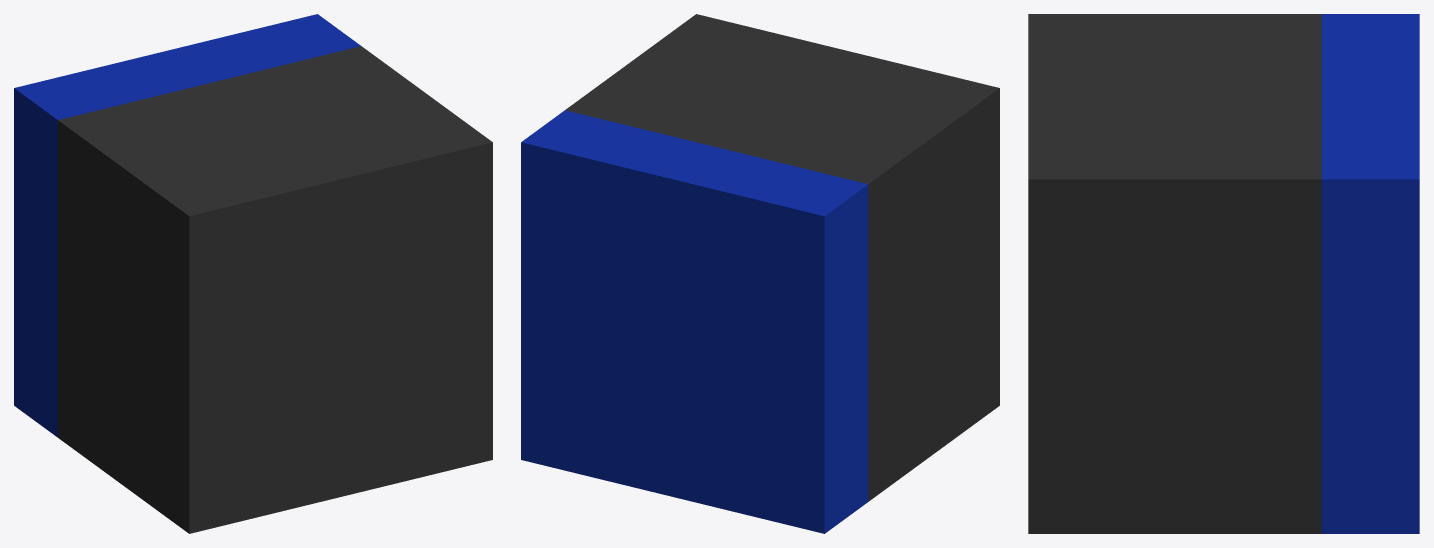
Rendered from triplejoin.gltf.
3 views of the same model, side by side, from view 1: azimuth 30°, elevation 25°; view 2: azimuth 150°, elevation 25°; view 3: azimuth 270°, elevation 25° (orthographic). The views are drawn at different scales.
Parts seen in each view (by area): view 1: InnerCorner, OuterCorner; view 2: OuterCorner, InnerCorner; view 3: InnerCorner, OuterCorner.
Part boxes in pixels (x1=…): InnerCorner: x1=58, y1=46, x2=492, y2=533; OuterCorner: x1=14, y1=14, x2=360, y2=437; OuterCorner: x1=521, y1=110, x2=868, y2=533; InnerCorner: x1=565, y1=14, x2=999, y2=501; InnerCorner: x1=1028, y1=14, x2=1321, y2=533; OuterCorner: x1=1321, y1=14, x2=1419, y2=533.
Bounding box in the file's own units: 4 × 4 × 4.
2 materials, 2 textured.
